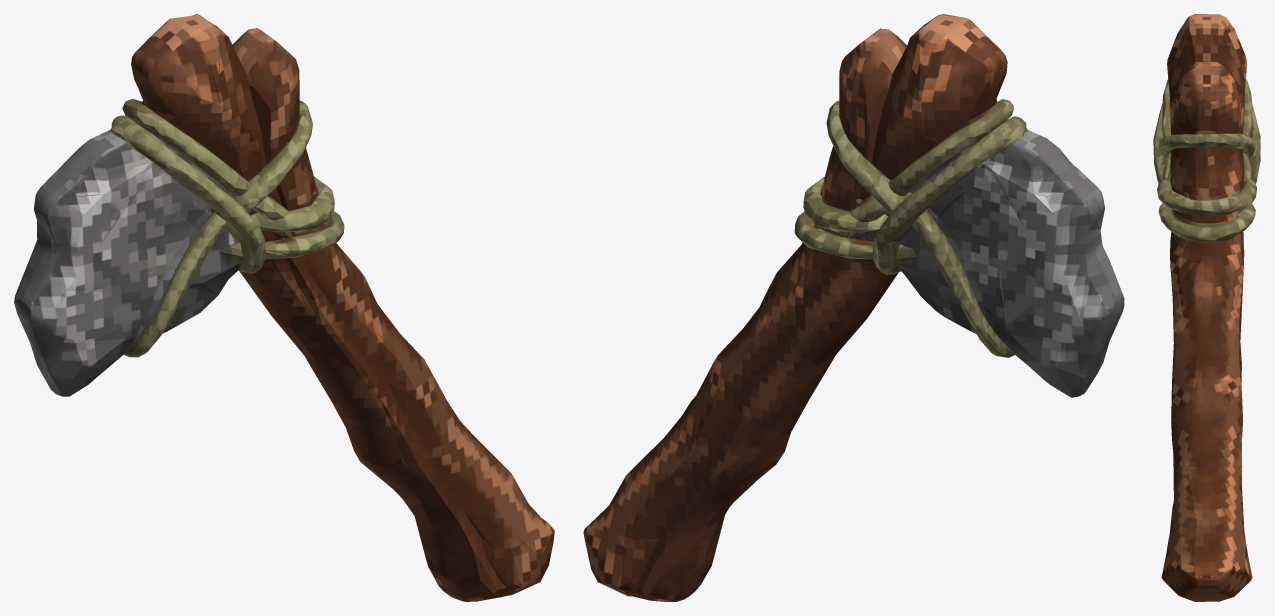
The model's file is Meshy_AI_Wild_Wanderer_1015230955_texture.fbx.
3 renders of one model, left to right at view 1: azimuth 30°, elevation 25°; view 2: azimuth 150°, elevation 25°; view 3: azimuth 270°, elevation 25°, orthographic. The views are drawn at different scales.
Visible parts, largest first — view 1: output_unwrapped; view 2: output_unwrapped; view 3: output_unwrapped.
Part boxes in pixels (bbox=[...]): output_unwrapped: bbox=[14, 14, 554, 601]; output_unwrapped: bbox=[583, 14, 1124, 601]; output_unwrapped: bbox=[1153, 14, 1260, 601].
Bounding box in the file's own units: 164 × 190 × 39.25.
Materials: 1 (1 with a texture image).
